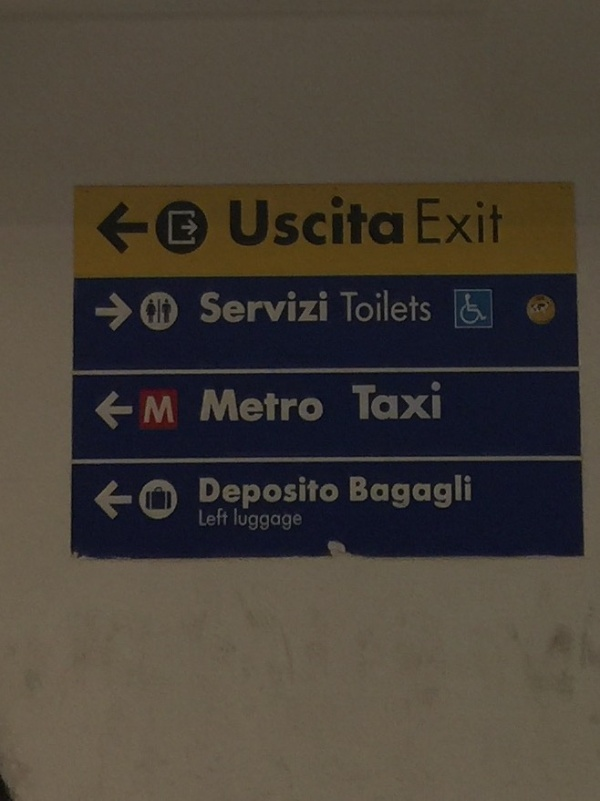text: (241, 194, 256, 250), (257, 194, 272, 250), (273, 194, 288, 250), (289, 194, 304, 250), (305, 194, 320, 250), (321, 194, 336, 250), (337, 194, 352, 250), (353, 194, 368, 250), (369, 194, 384, 250), (385, 194, 400, 250), (433, 198, 448, 247), (449, 198, 464, 247), (465, 198, 480, 247), (481, 198, 496, 247), (418, 198, 432, 247), (353, 382, 368, 424), (369, 382, 384, 424), (385, 382, 400, 424), (401, 382, 416, 424), (417, 382, 432, 424), (229, 194, 240, 250), (209, 387, 224, 425), (225, 387, 240, 425), (241, 387, 256, 425), (257, 387, 272, 425), (273, 387, 288, 425), (289, 387, 304, 425), (305, 387, 320, 425), (209, 474, 224, 512), (225, 474, 240, 512), (241, 474, 256, 512), (257, 474, 272, 512), (273, 474, 288, 512), (289, 474, 304, 512), (305, 474, 320, 512), (321, 474, 336, 512), (353, 474, 368, 511), (369, 474, 384, 511), (385, 474, 400, 511), (401, 474, 416, 511), (417, 474, 432, 511), (433, 474, 448, 511), (449, 474, 464, 511), (417, 290, 433, 324), (209, 291, 224, 327), (225, 291, 240, 327), (241, 291, 256, 327), (257, 291, 272, 327), (273, 291, 288, 327), (289, 291, 304, 327), (305, 291, 320, 327), (353, 290, 368, 324), (369, 290, 384, 324), (385, 290, 400, 324), (401, 290, 416, 324), (161, 396, 175, 424), (241, 507, 256, 533), (257, 507, 272, 533), (273, 507, 288, 533), (433, 382, 442, 424), (341, 290, 352, 324), (289, 507, 303, 533), (147, 396, 160, 424), (209, 507, 224, 531), (497, 198, 504, 247), (200, 474, 208, 512), (465, 474, 472, 511), (321, 291, 328, 327), (202, 291, 208, 327), (199, 507, 208, 531), (401, 194, 404, 250), (234, 507, 240, 533), (225, 507, 229, 531), (206, 387, 208, 425), (321, 387, 323, 425), (337, 474, 339, 512), (350, 474, 352, 511)
